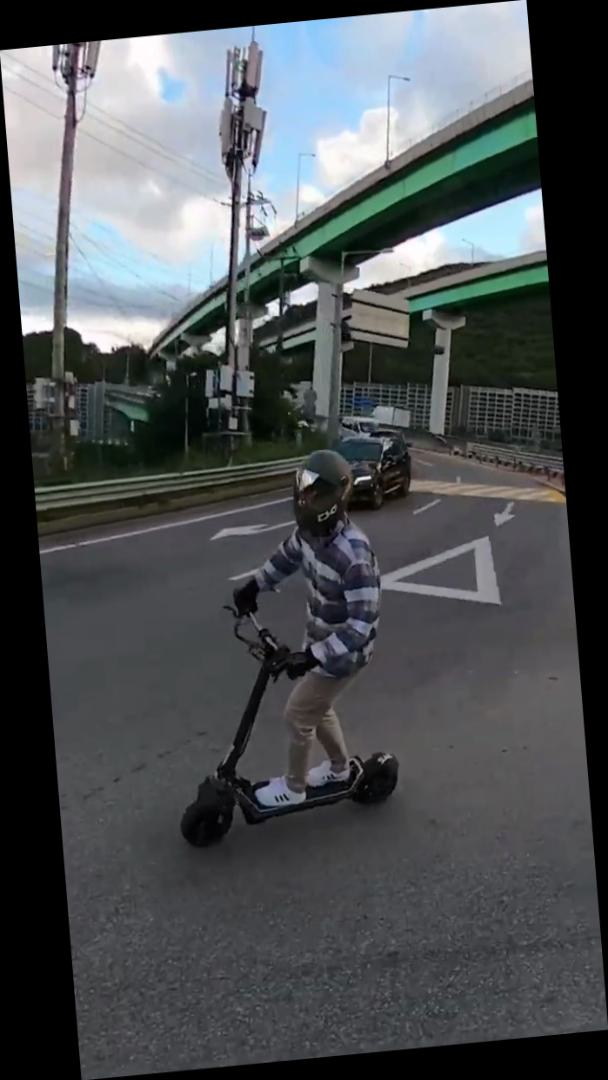helmet: (148, 442, 409, 856)
